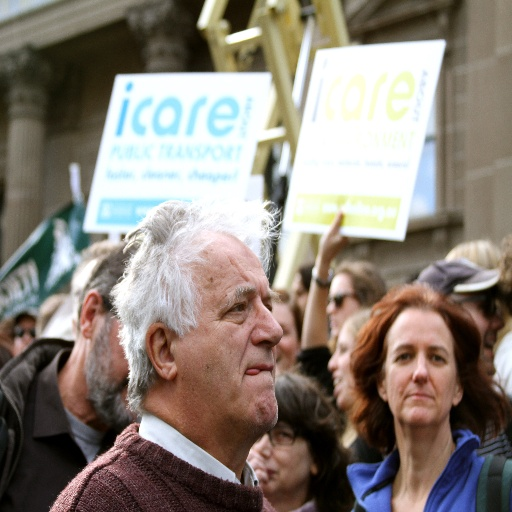hand: (311, 229, 354, 290), (245, 441, 271, 485)
